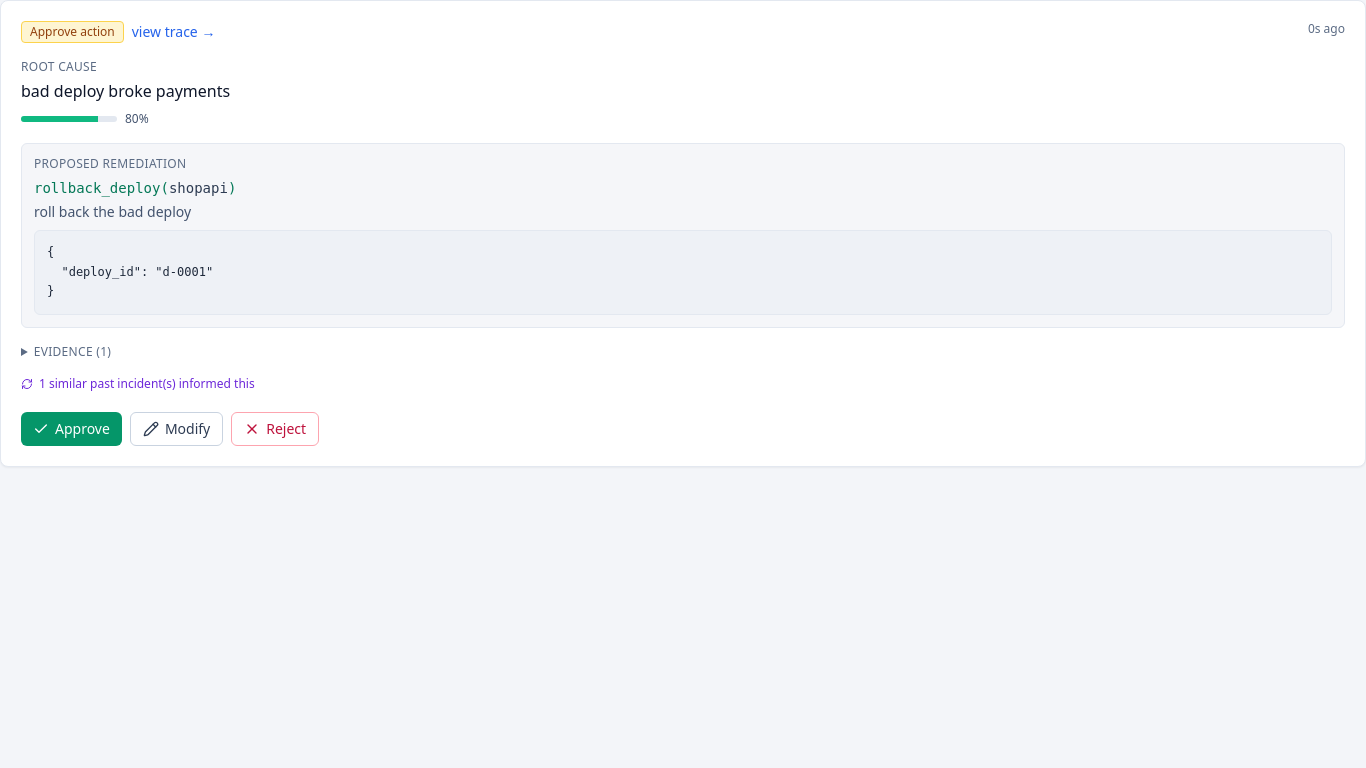
Test case: ApprovalCard › reveals the reject comment box and requires a comment
Click the button "Reject" at (275, 428), box x1=231 y1=412 x2=319 y2=446
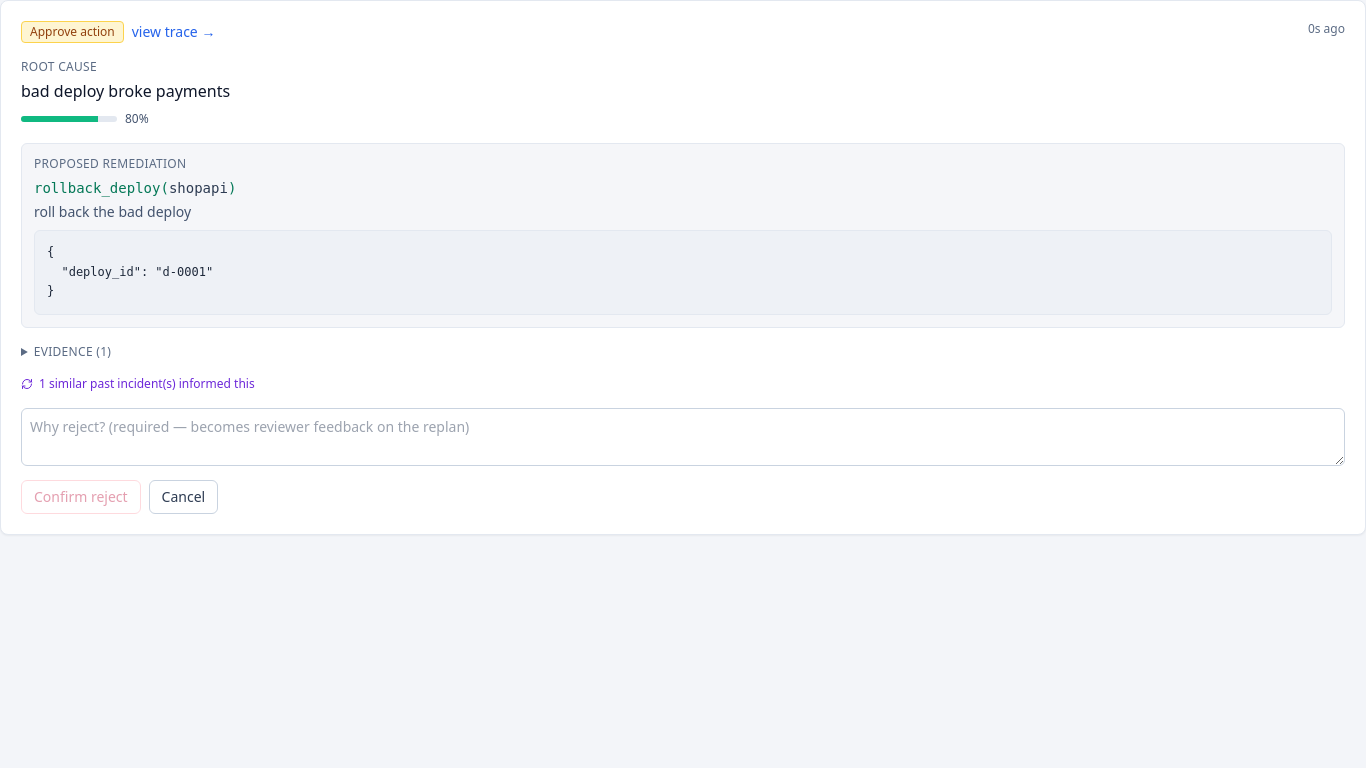
Result: the button "Confirm reject" is disabled at x1=21 y1=480 x2=141 y2=514
